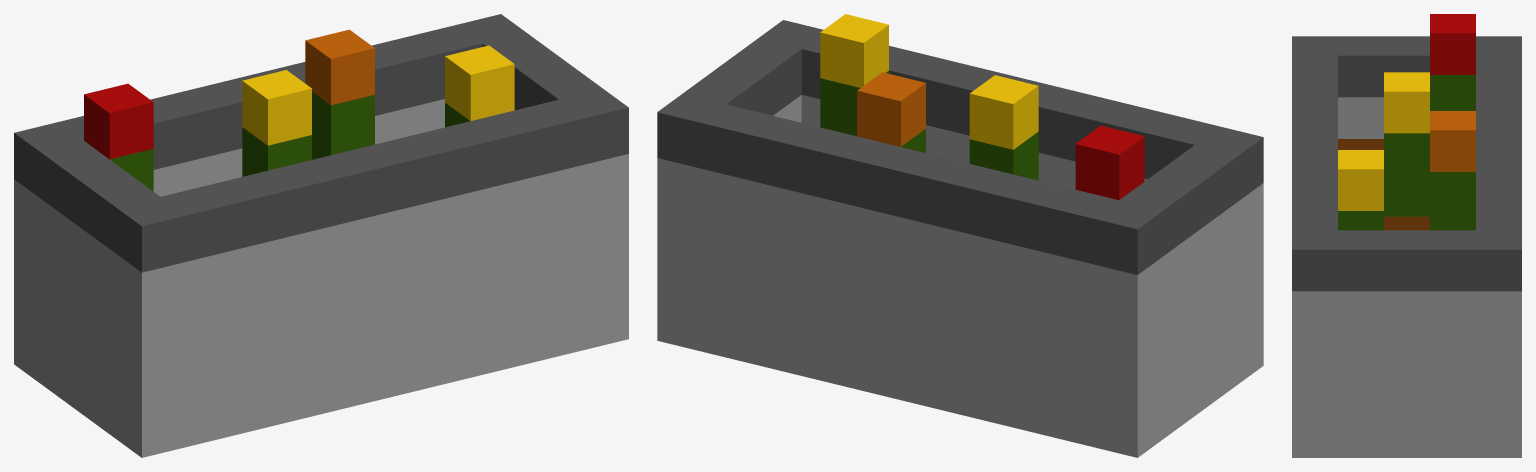
File: obj_planter3b.obj
The picture shows the model from 3 angles, left to right: view 1: azimuth 30°, elevation 25°; view 2: azimuth 150°, elevation 25°; view 3: azimuth 270°, elevation 25°; orthographic projection. The views are drawn at different scales.
Bounding box in the file's own units: 1.1 × 0.6 × 0.5.
Materials: 1 (1 with a texture image).
